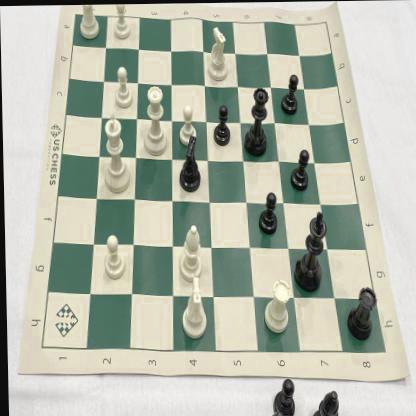black-king: (292, 210, 330, 294)
black-knight: (174, 134, 203, 192)
black-pawn: (286, 146, 310, 194), (278, 72, 300, 119), (257, 189, 278, 236), (211, 102, 231, 146)
black-queen: (242, 85, 271, 160)
black-rook: (344, 284, 378, 342)
white-bishop: (176, 221, 202, 282)
white-king: (100, 108, 131, 195)
white-knight: (178, 276, 209, 340), (206, 24, 230, 82)
white-pawn: (100, 232, 126, 280), (112, 64, 134, 109), (177, 102, 198, 146), (111, 3, 133, 40)
white-queen: (142, 81, 168, 158)
white-rook: (261, 276, 290, 336), (80, 4, 100, 42)
